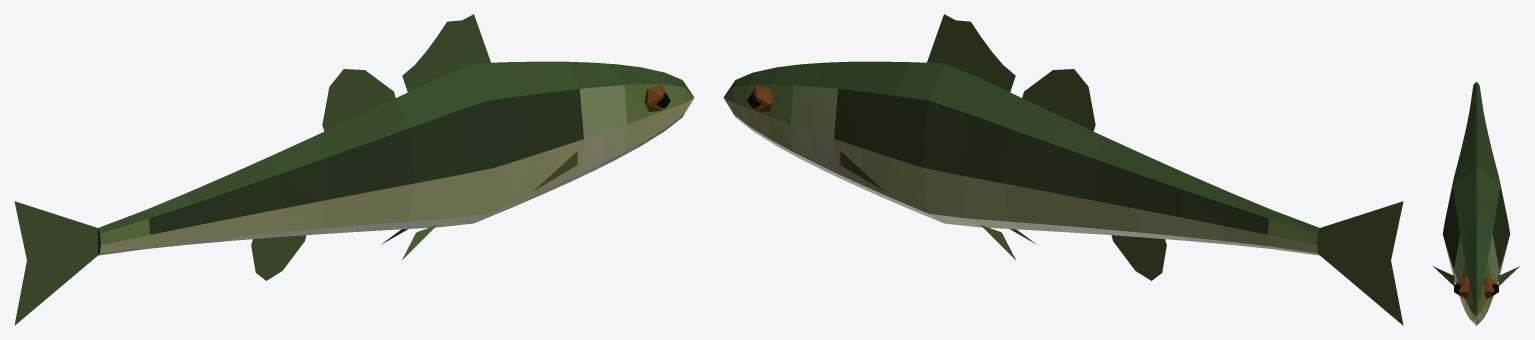
File: largemouth-bass.glb
The picture shows the model from 3 angles, left to right: view 1: azimuth 30°, elevation 25°; view 2: azimuth 150°, elevation 25°; view 3: azimuth 270°, elevation 25°; orthographic projection. The views are drawn at different scales.
Parts seen in each view (by area): view 1: largemouth-bass; view 2: largemouth-bass; view 3: largemouth-bass.
Boxes of the visible parts, <box> form: largemouth-bass: <box>14,14,694,325</box>; largemouth-bass: <box>723,14,1403,325</box>; largemouth-bass: <box>1433,82,1519,325</box>.
Bounding box in the file's own units: 1.14 × 0.3508 × 0.1664.
